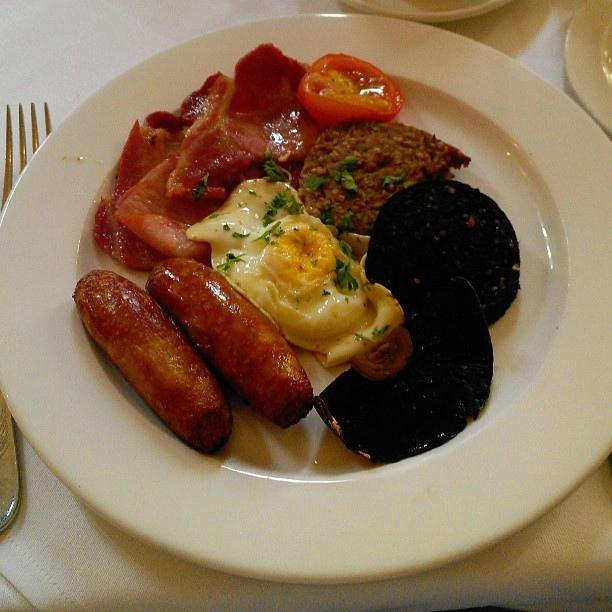tomato: (296, 52, 402, 127), (352, 327, 414, 380)
